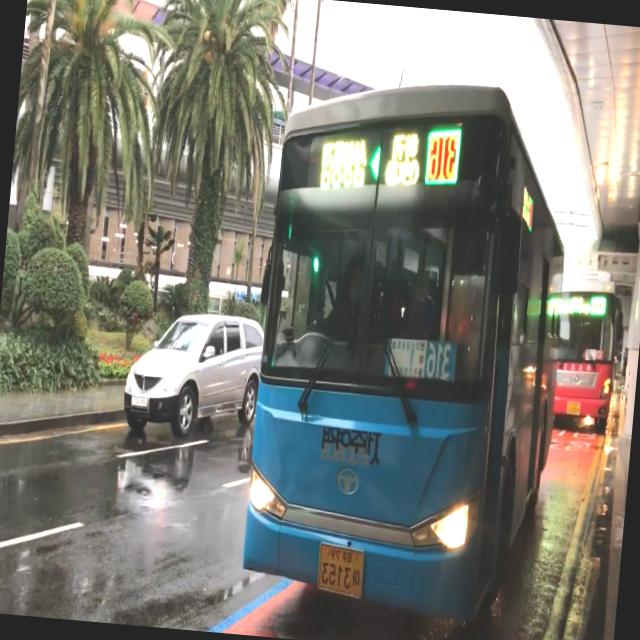bus-number: (424, 130, 460, 184)
